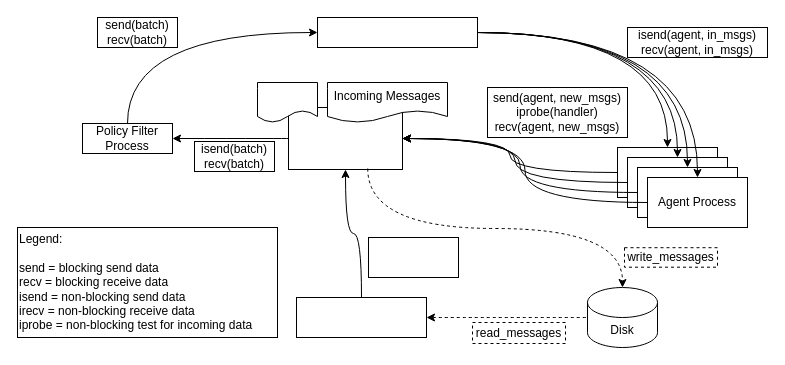
The diagram is 785 pixels wide and 365 high, and some of its shapes have lost their labels. The shapes that lost their labels are listed below. From the top down, each one's box as (x1, y1, x2, y2) in pixels, then its label:
(316, 16, 478, 48): Agent Pool Manager Process
(256, 82, 318, 122): Agents
(288, 106, 402, 170): Data Manager Process
(368, 236, 458, 278): send('sigterm') recv('sigterm')
(296, 296, 426, 338): Convergence Monitor Process
